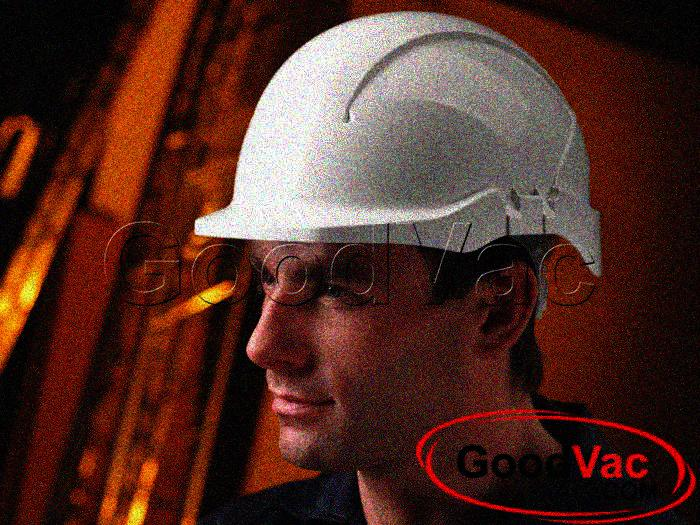helmet: (192, 9, 605, 465)
